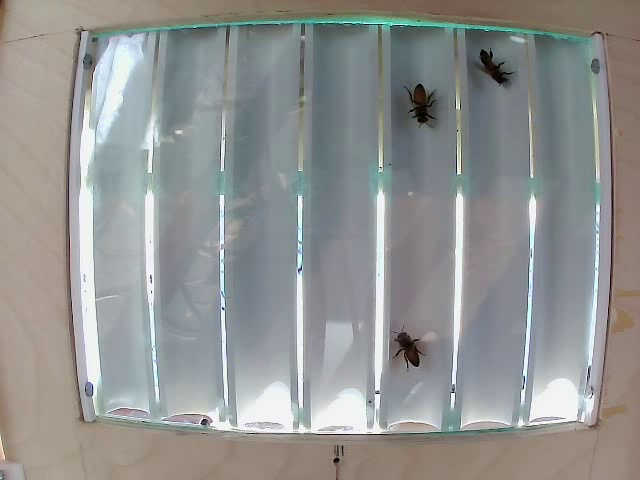bee: (471, 45, 510, 96), (386, 324, 426, 363), (407, 75, 435, 128)
